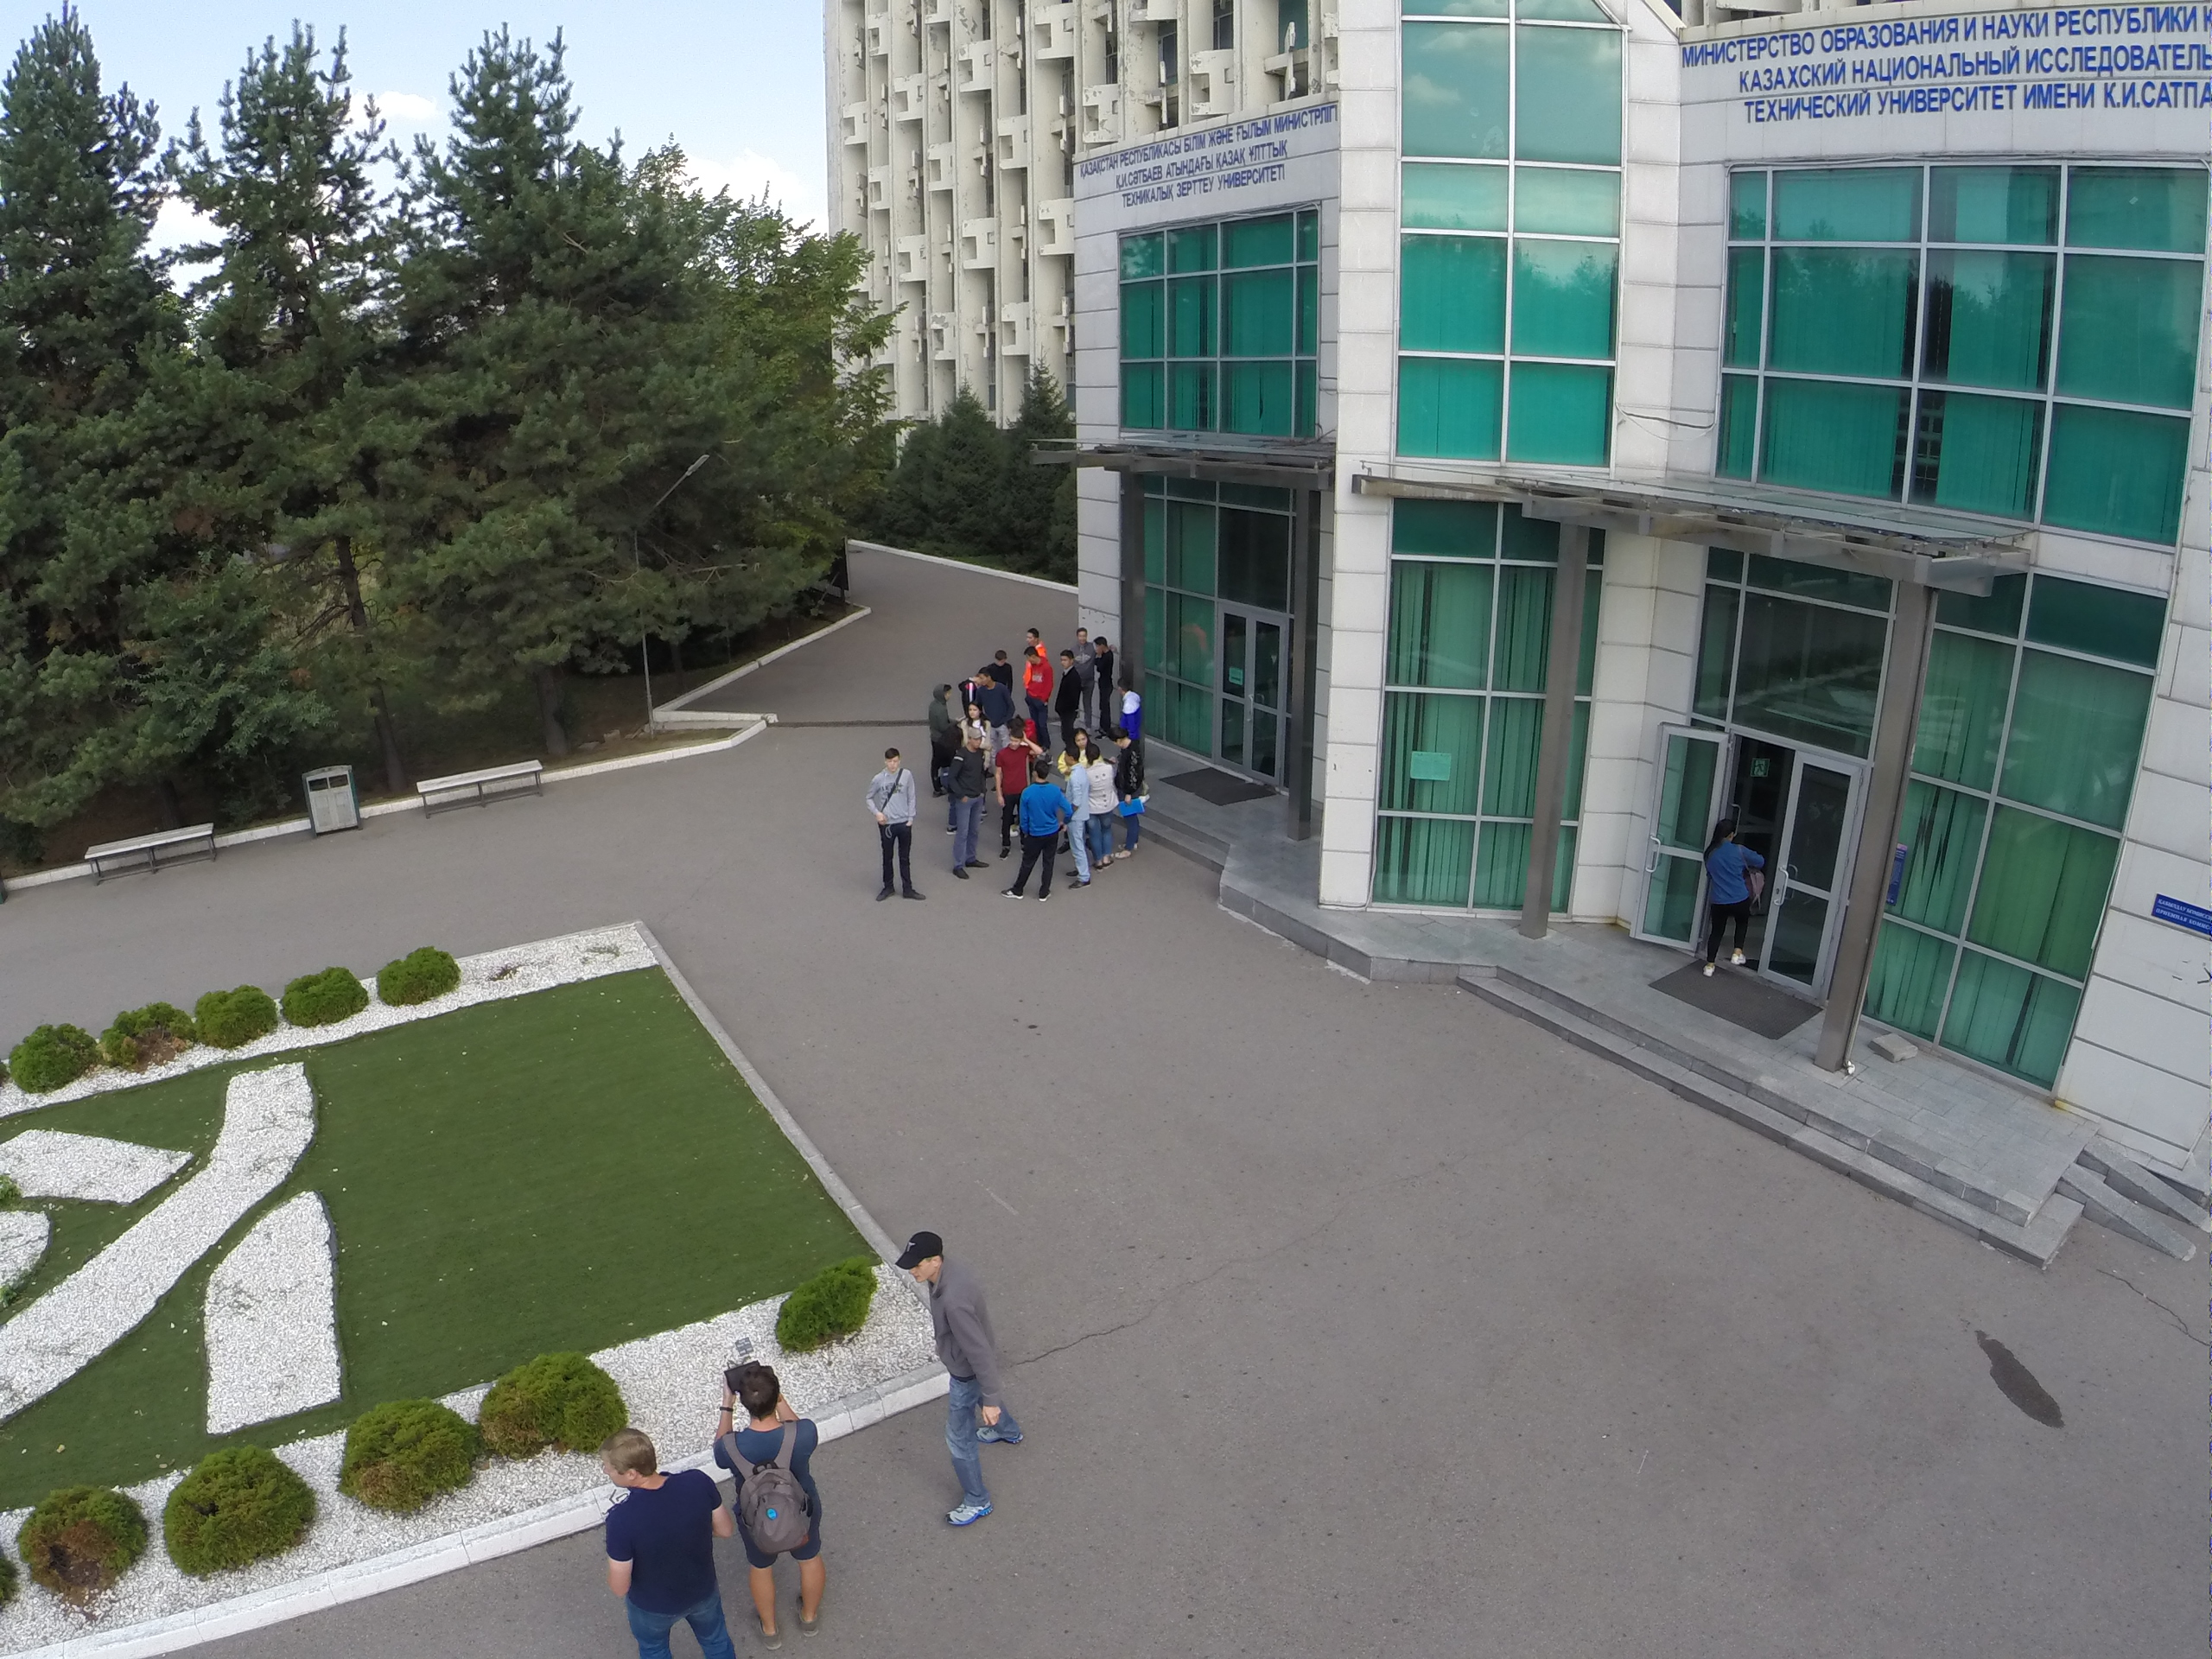person: (888, 1225, 1036, 1538), (594, 1425, 731, 1659), (722, 1364, 830, 1633), (1698, 814, 1769, 982), (862, 745, 926, 905), (1015, 760, 1071, 899), (953, 726, 993, 881), (1058, 745, 1096, 893), (996, 729, 1030, 870), (1083, 744, 1119, 874), (1111, 727, 1144, 861), (925, 680, 953, 803), (1071, 625, 1097, 736), (1021, 647, 1054, 720), (1057, 646, 1081, 741), (1096, 635, 1116, 741), (977, 669, 1015, 715), (1116, 680, 1141, 728), (964, 702, 991, 734), (991, 648, 1015, 681), (1024, 625, 1043, 650)
